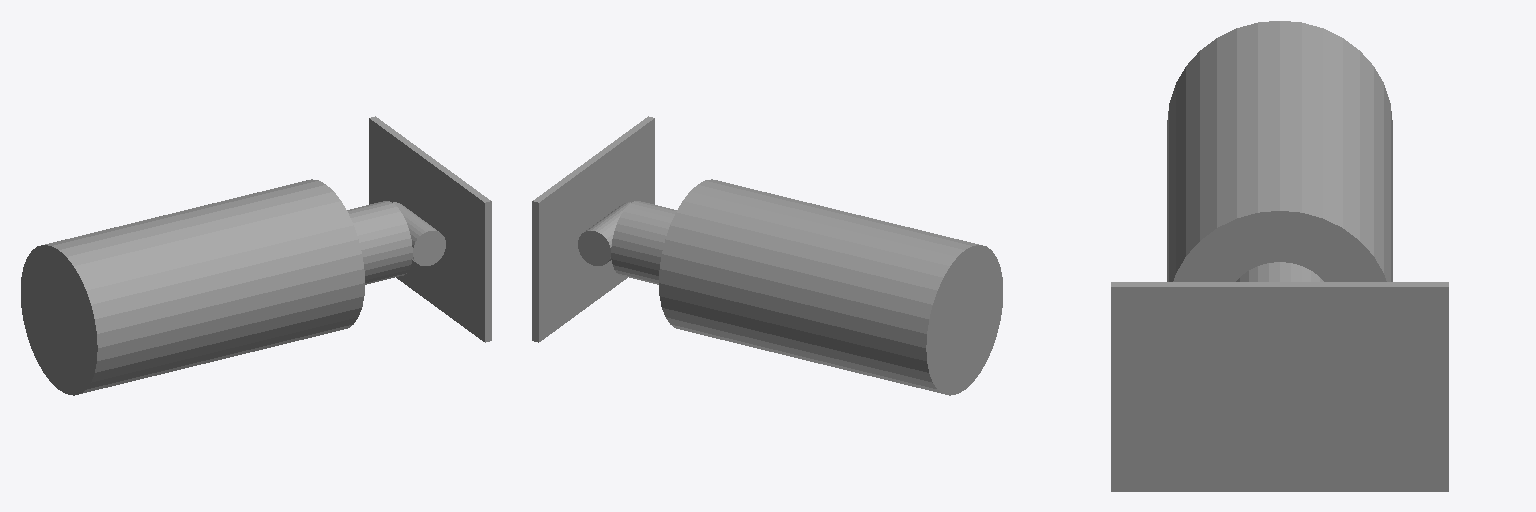
URDF robot description (cylinder_arm):
<?xml version="1.0"?>

<robot name="cylinder_arm">

    <link name="world">
    </link>

  <link name="link1">
    <visual>
    <origin xyz="0 0 0" rpy="0 1.57 0"/>
      <geometry>
        <cylinder length="0.4" radius="0.1" />
      </geometry>
      <material name="Grey">
        <color rgba="0.67 0.67 .67 1.0"/>
      </material>
    </visual>
  </link>

  <link name="link2">
    <visual>
    <origin xyz="0 0 0" rpy="0 1.57 0"/>
      <geometry>
        <cylinder length="0.4" radius="0.05" />
      </geometry>
      <material name="Grey">
        <color rgba="0.67 0.67 .67 1.0"/>
      </material>
    </visual>
  </link>

    <link name="link3">
    <visual>
    <origin xyz="0 0 0" rpy="0 1.57 1.57"/>
      <geometry>
        <cylinder length="0.1" radius="0.025" />
      </geometry>
      <material name="Grey">
        <color rgba="0.67 0.67 .67 1.0"/>
      </material>
    </visual>
  </link>

  <link name="link4">
    <visual>
    <origin xyz="0 0 0" rpy="0 0 0"/>
      <geometry>
        <box size="0.01 0.3 0.2"/>
      </geometry>
      <material name="Grey">
        <color rgba="0.67 0.67 .67 1.0"/>
      </material>
    </visual>
  </link>

  <joint name="joint1" type="fixed">
    <origin xyz="0 0 1" rpy="0 0 0"/>
    <parent link="world"/>
    <child link="link1"/>
  </joint>

  <joint name="joint2" type="prismatic">                        
    <parent link="link1"/>                                 
    <child link="link2"/>                                     
    <origin xyz="0.1 0 0" rpy="0 0 0"/>                       
    <axis xyz="1 0 0"/>                                       
    <limit lower="0.0" upper="0.2" effort="5.0" velocity="0.1"/>   
  </joint>

  <joint name="joint3" type="revolute">
    <origin xyz="0.225 0 0" rpy="0 0 0"/>
    <parent link="link2"/>
    <child link="link3"/>
    <axis xyz="0 1 0"/>
    <limit lower="-0.785" upper="0.785" effort="5" velocity="2"/>
  </joint>

  <joint name="joint4" type="fixed">
    <origin xyz="0.03 0 0" rpy="0 0 0"/>
    <parent link="link3"/>
    <child link="link4"/>
  </joint>


</robot>

--- Render facts (derived) ---
The picture shows the robot from 3 angles, left to right: view 1: azimuth 30°, elevation 25°; view 2: azimuth 150°, elevation 25°; view 3: azimuth 270°, elevation 25°; orthographic projection.
Robot: cylinder_arm — 5 links, 4 joints (1 revolute, 1 prismatic, 2 fixed); root link world; default pose: all joints at 0.
Visible links, largest first — view 1: link1, link4, link2, link3; view 2: link1, link4, link2, link3; view 3: link4, link1, link2.
Link boxes in pixels (<box>): link1: <box>21,179,364,395</box>; link4: <box>369,116,491,342</box>; link2: <box>347,201,412,284</box>; link3: <box>393,202,445,265</box>; link1: <box>659,179,1002,395</box>; link4: <box>532,116,654,342</box>; link2: <box>611,201,676,284</box>; link3: <box>578,202,630,265</box>; link4: <box>1111,282,1448,491</box>; link1: <box>1167,21,1392,281</box>; link2: <box>1236,262,1323,281</box>.
Bounding box of the posed robot: 0.5601 × 0.3 × 0.2003 m (x, y, z).
Geometry: primitives only (box / cylinder / sphere), no mesh files.